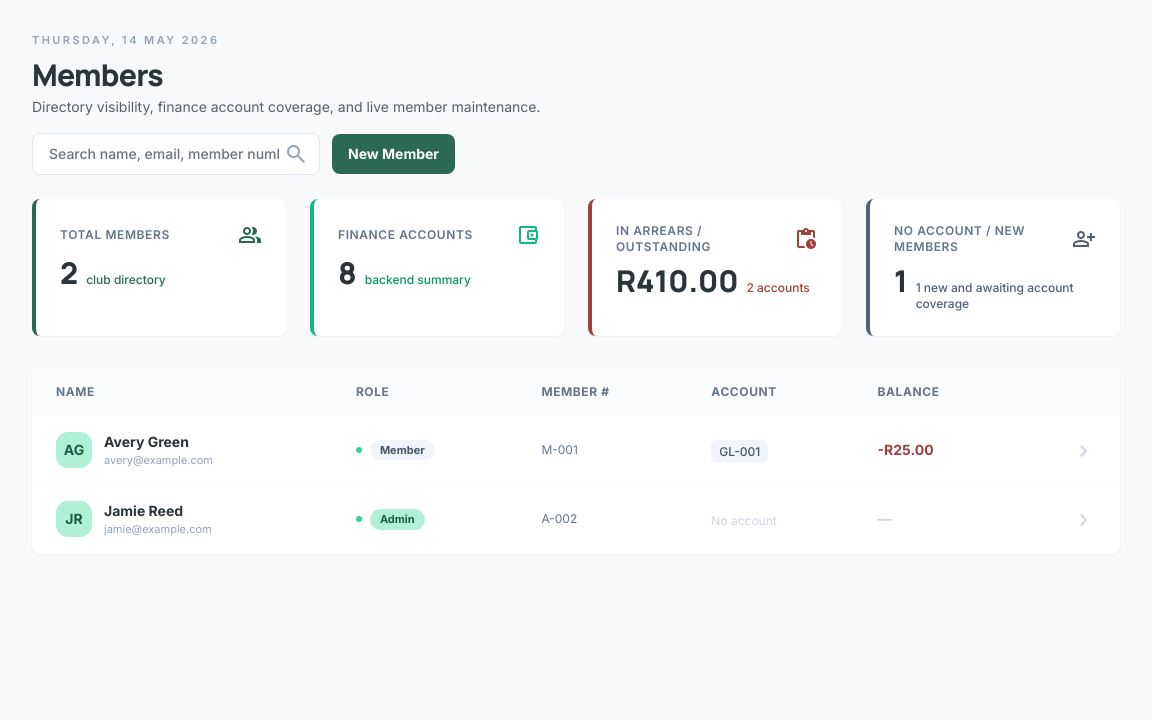
Scenario: AdminMembersPage › creates a member and optional finance account from the members workspace
Click the button "New Member": (394, 154) [332,134,455,174]
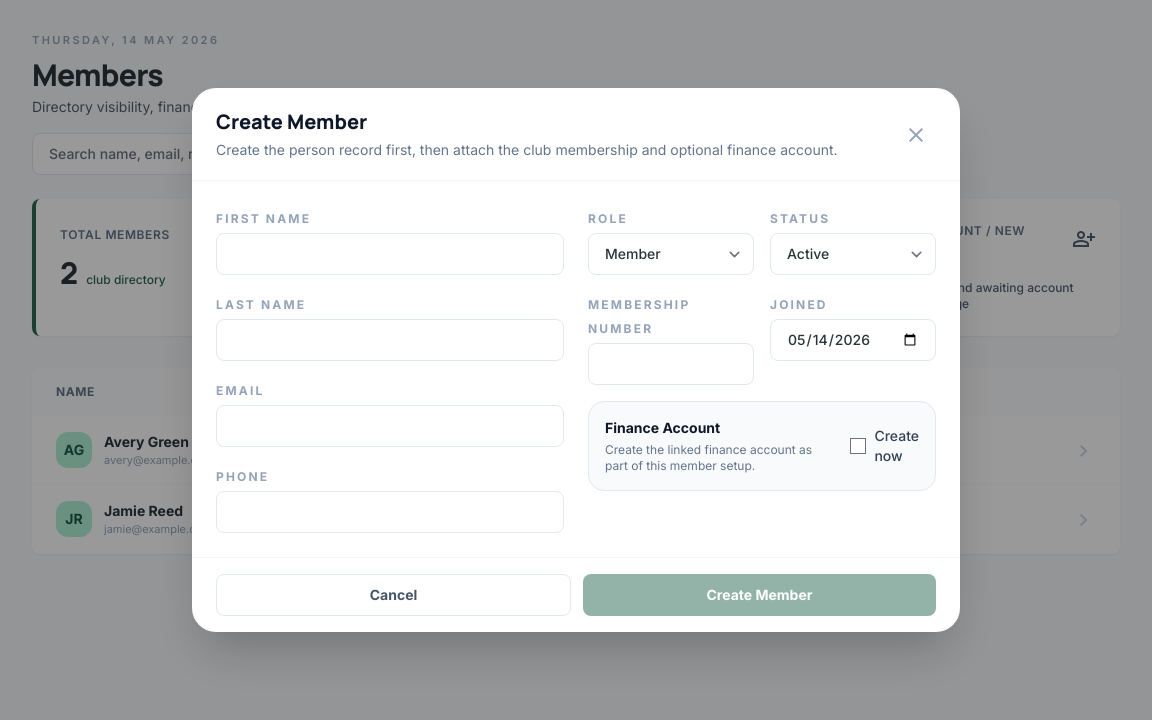
In the field labelled "First Name": (390, 254) [216,233,564,275], type "Casey"
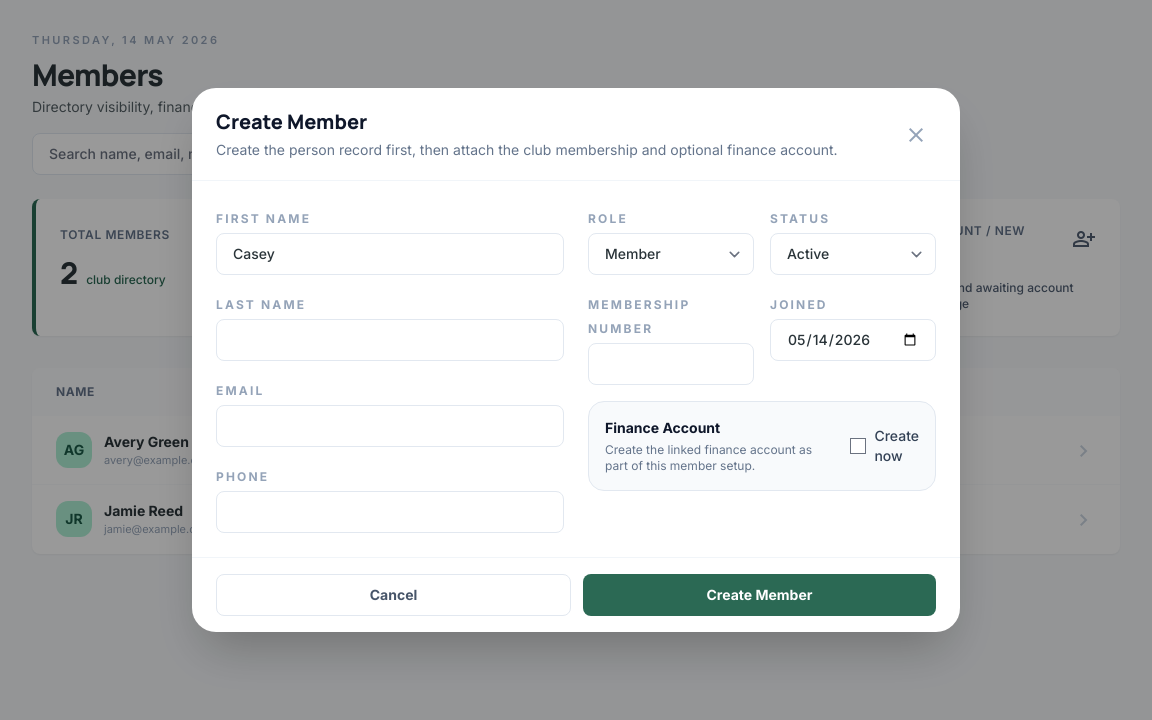
In the field labelled "Last Name": (390, 340) [216,319,564,361], type "Stone"
In the field labelled "Email": (390, 426) [216,405,564,447], type "casey@example.com"
In the field labelled "Membership Number": (671, 364) [588,343,754,385], type "M-777"
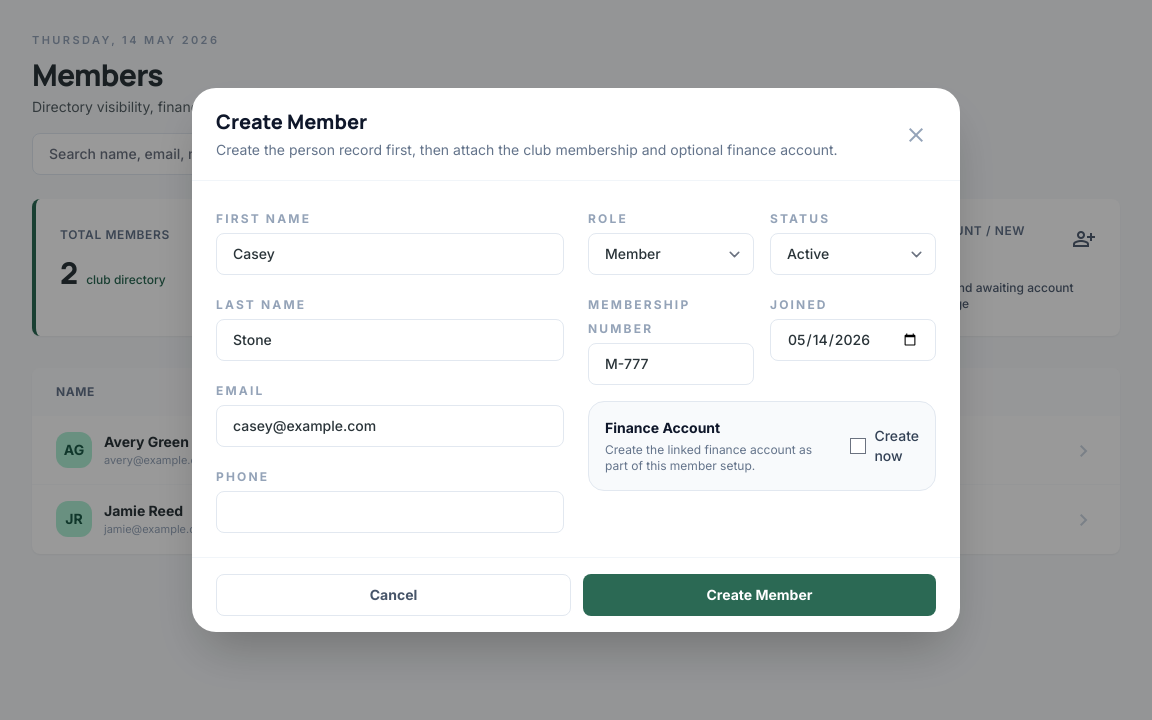
Click the checkbox labelled "Create now": (858, 446) [850,438,866,454]
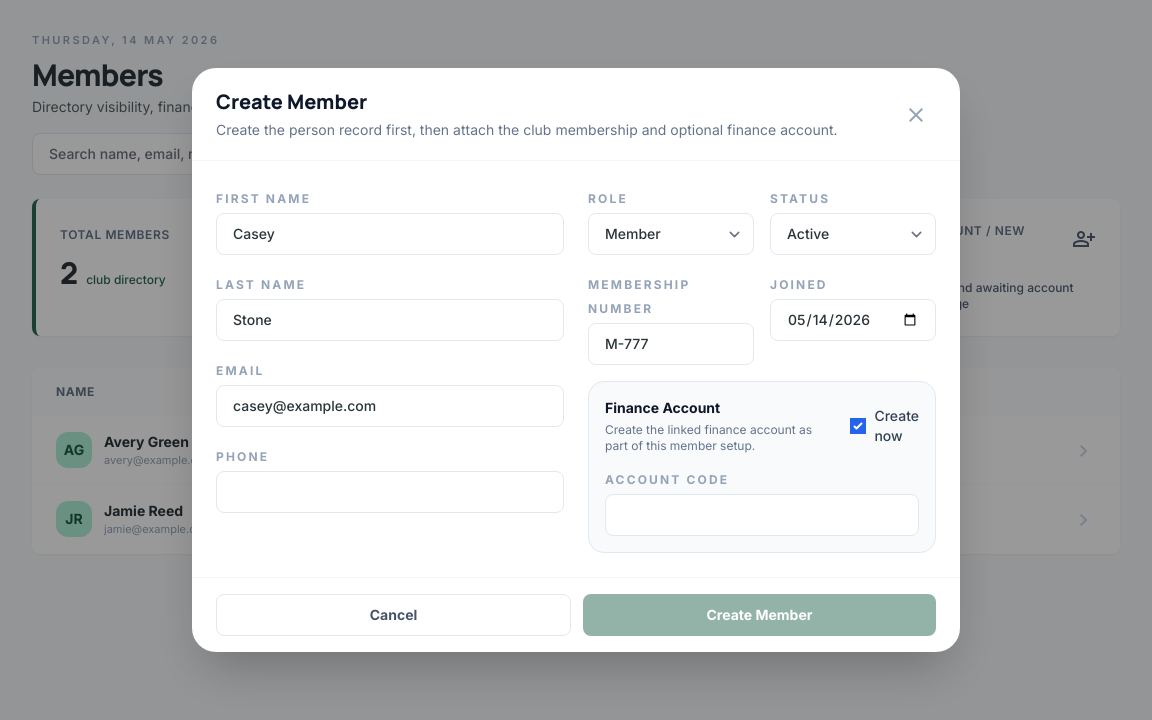
In the field labelled "Account Code": (762, 515) [605,494,919,536], type "GL-777"
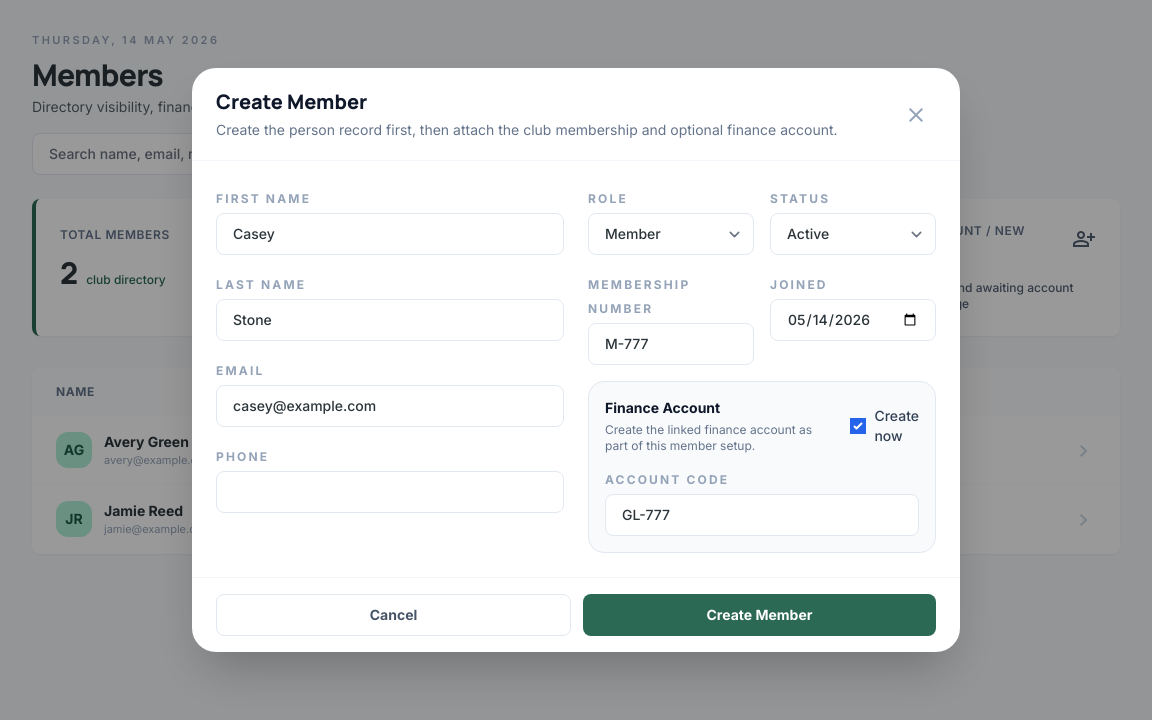
Click the button "Create Member": (760, 615) [583,594,936,636]
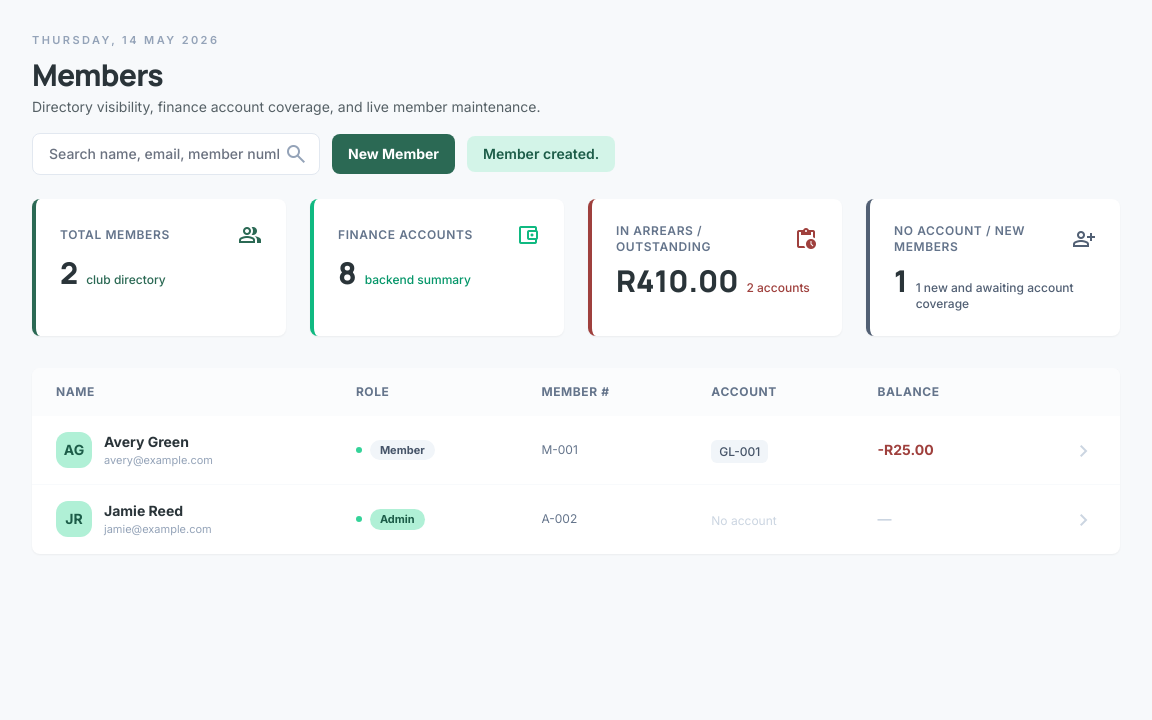
Result: the dialog is gone
Result: the text "Member created." is shown at [467,136,615,172]
